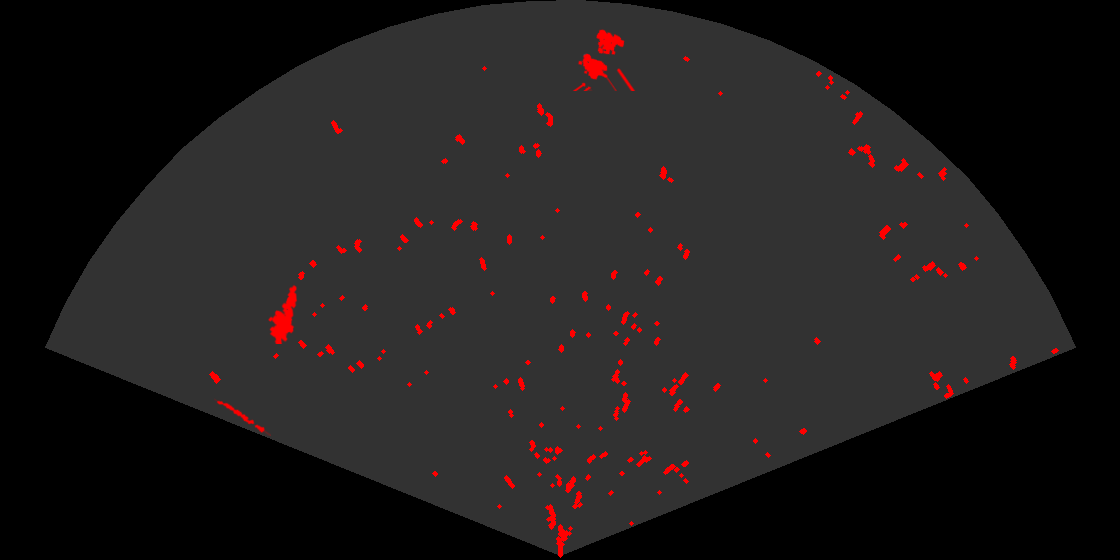cage: (571, 28, 637, 91)
chain: (214, 397, 271, 436)
frogman: (267, 283, 299, 344)
